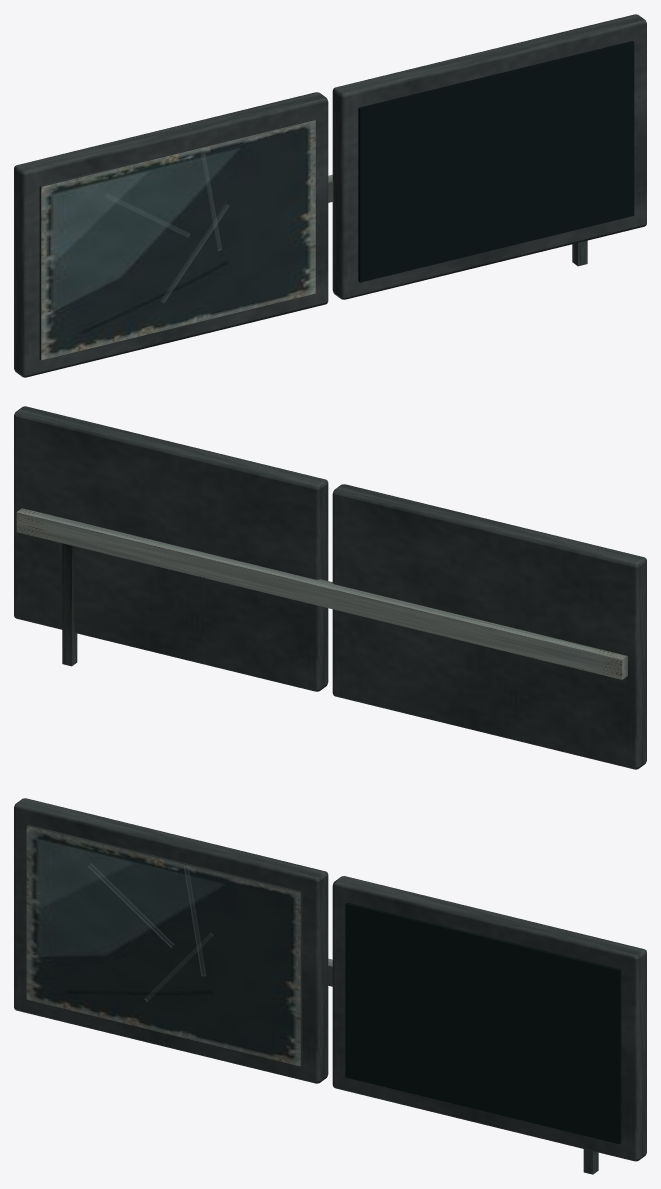
The model's file is screen_pair.glb.
3 renders of one model, top to bottom at view 1: azimuth 30°, elevation 25°; view 2: azimuth 150°, elevation 25°; view 3: azimuth 330°, elevation 25°, orthographic.
Visible parts, largest first — view 1: ScreenPair; view 2: ScreenPair; view 3: ScreenPair.
Boxes of the visible parts, x1,y1,x2,y2 form: ScreenPair: [14, 14, 646, 377]; ScreenPair: [14, 406, 646, 769]; ScreenPair: [14, 798, 646, 1174].
Bounding box in the file's own units: 1.96 × 0.71 × 0.106.
Materials: 3 (1 with a texture image).
